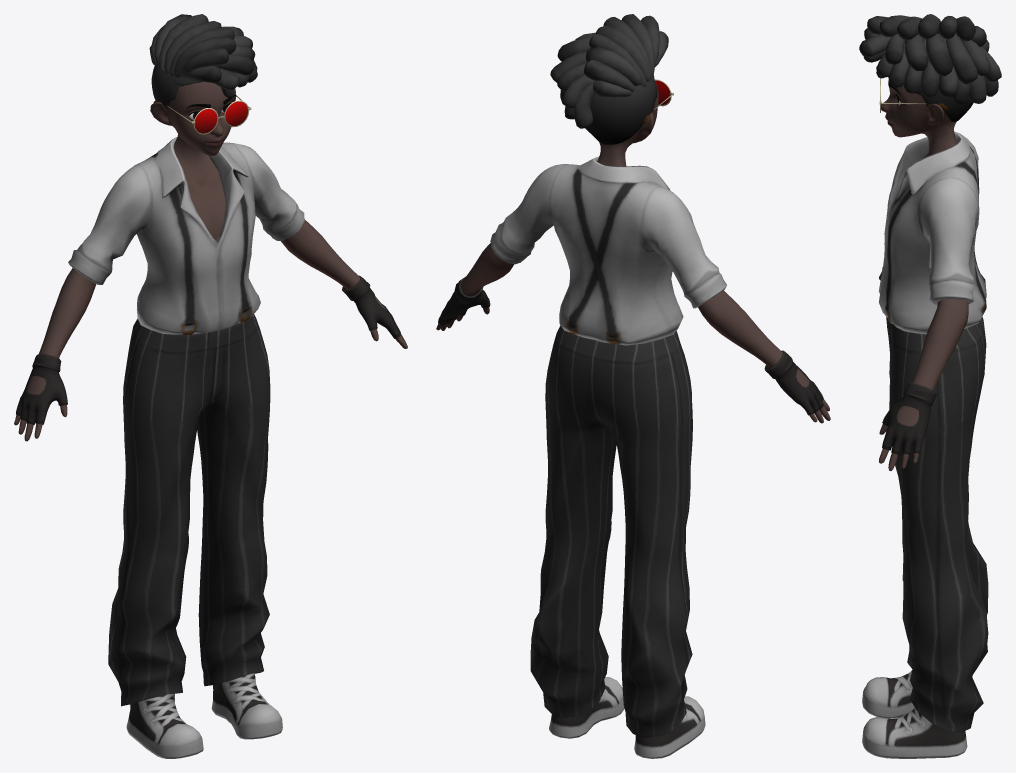
File: StaffChloe_Mesh.obj
3 views of the same model, side by side, from view 1: azimuth 30°, elevation 25°; view 2: azimuth 150°, elevation 25°; view 3: azimuth 270°, elevation 25° (orthographic).
Visible parts, largest first — view 1: StaffChloe_Mesh_0; view 2: StaffChloe_Mesh_0; view 3: StaffChloe_Mesh_0.
Part boxes in pixels (left/top/right/bottom): StaffChloe_Mesh_0: left=14, top=14, right=407, bottom=758; StaffChloe_Mesh_0: left=436, top=14, right=830, bottom=758; StaffChloe_Mesh_0: left=859, top=14, right=1001, bottom=758.
Bounding box in the file's own units: 1.06 × 1.86 × 0.3349.
1 material, 1 textured.
